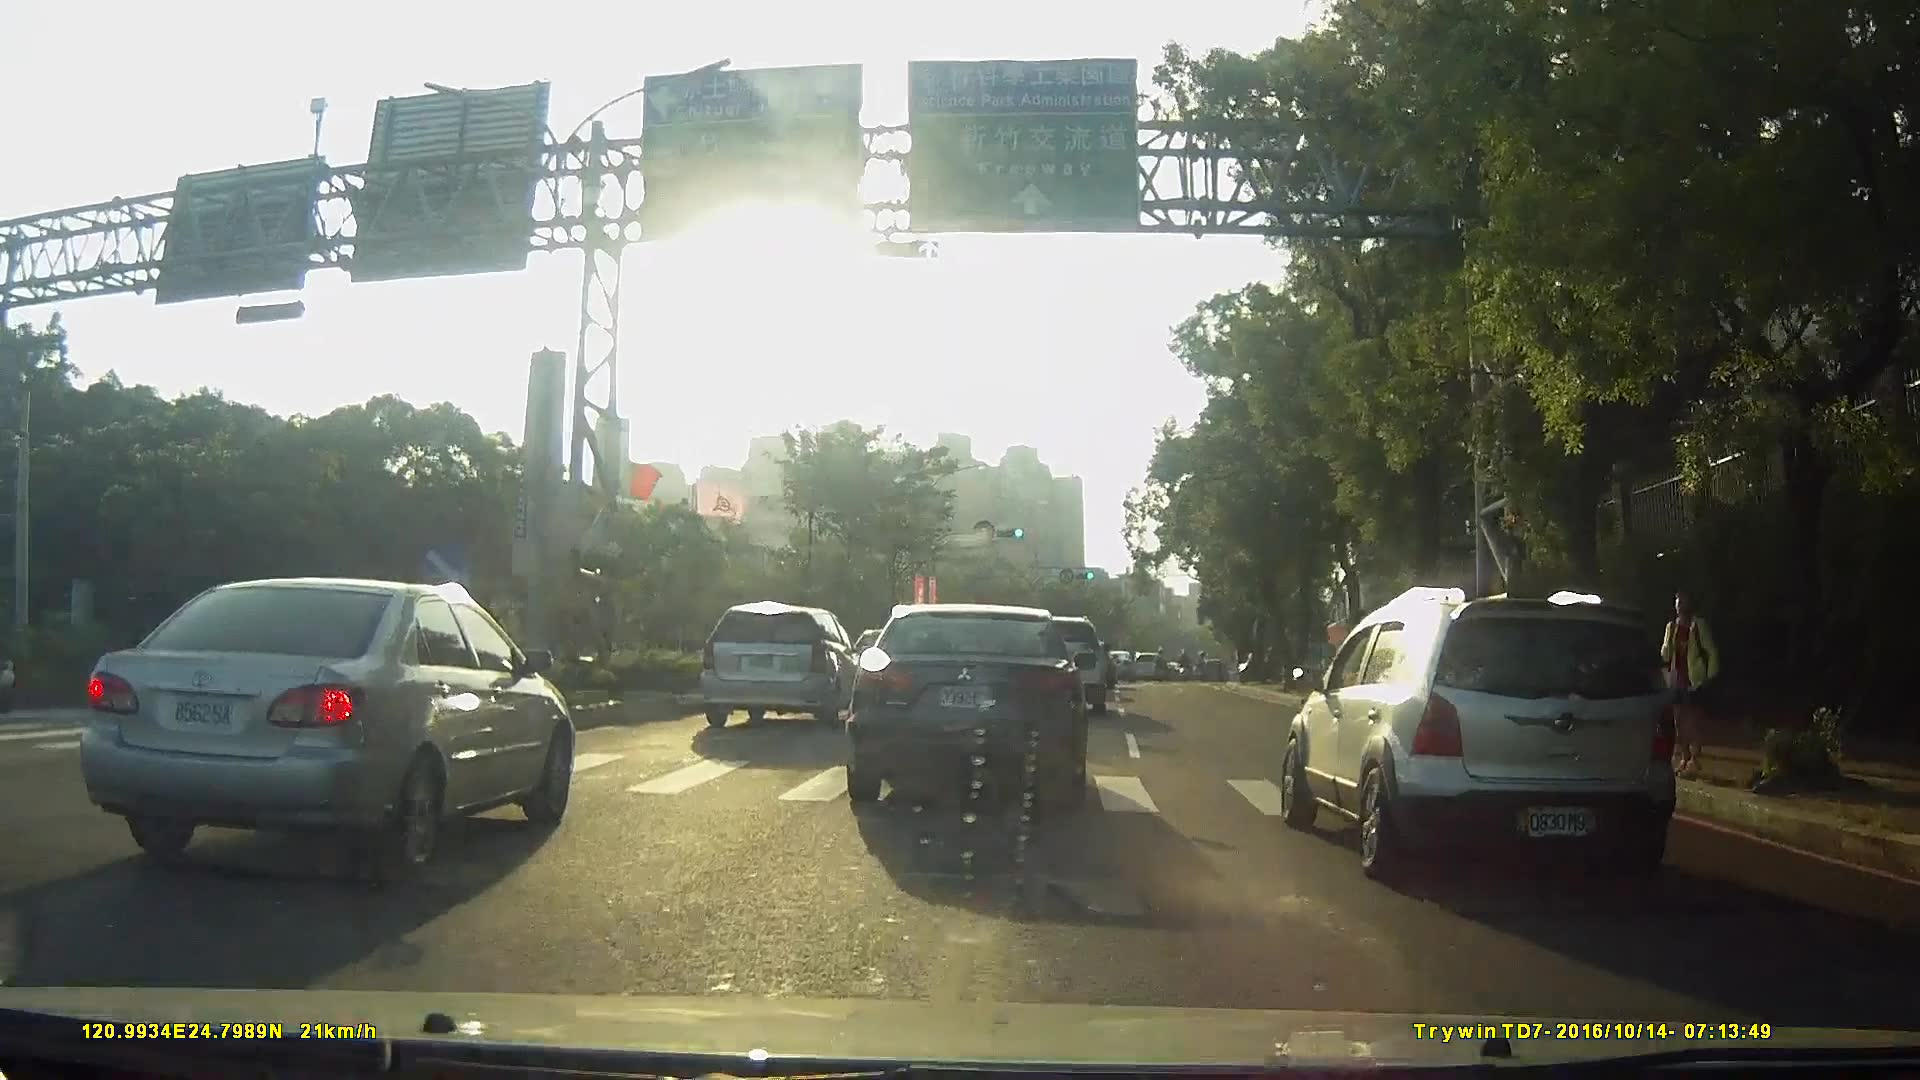pedestrian: (1642, 588, 1722, 789)
rider: (1, 611, 21, 709)
vehicle: (56, 571, 588, 881), (1265, 584, 1699, 896), (849, 594, 1112, 809), (689, 604, 862, 734), (1099, 649, 1133, 680), (1125, 653, 1158, 682)
